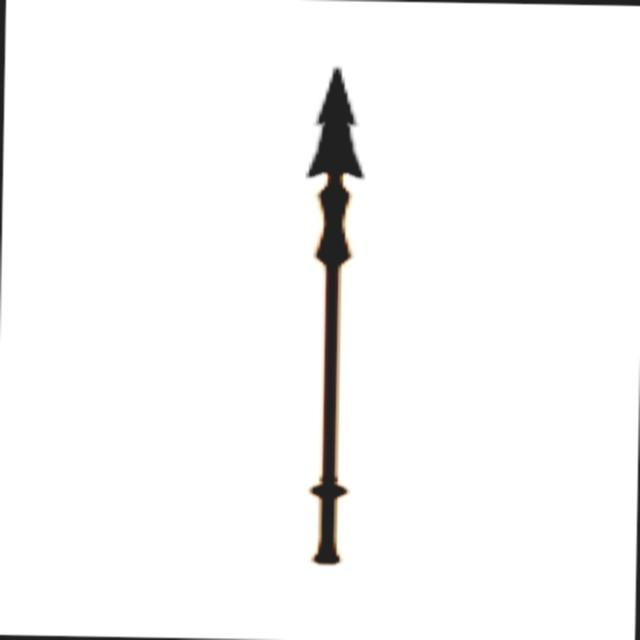spear: (268, 47, 384, 583)
